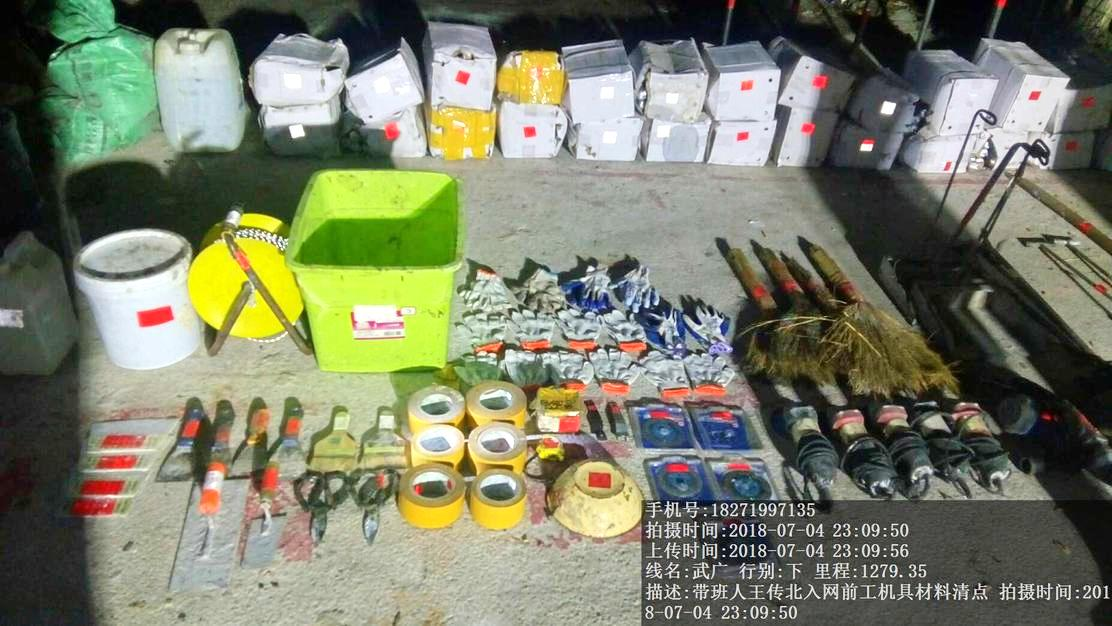SB: (820, 245, 944, 388), (719, 244, 808, 375)
T: (292, 163, 456, 376)
